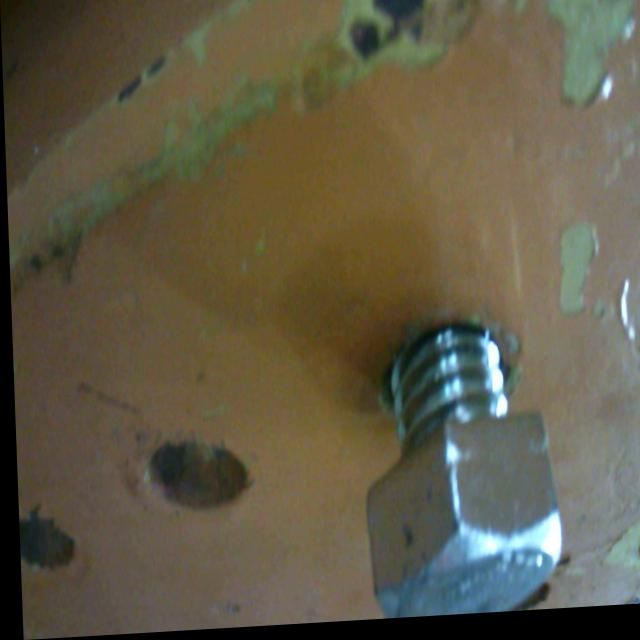Loose bolt: (358, 330, 561, 625)
Missing bolt: (145, 436, 247, 518), (16, 500, 72, 574)
Regular bolt: (351, 325, 559, 624)
